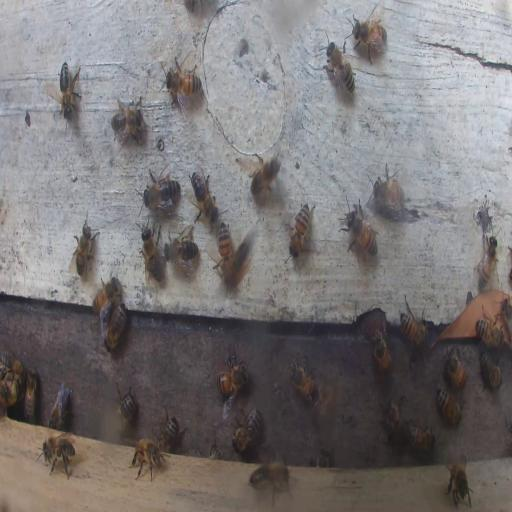bee: (341, 196, 379, 264), (350, 5, 388, 63), (70, 209, 101, 280), (322, 35, 357, 97), (142, 168, 182, 212), (41, 433, 77, 478), (215, 355, 249, 402), (249, 460, 291, 498), (373, 164, 404, 215), (108, 100, 144, 143), (140, 220, 164, 284), (56, 62, 82, 120), (230, 229, 256, 287), (249, 154, 281, 199), (288, 202, 314, 257), (399, 301, 428, 350), (129, 437, 162, 479), (231, 407, 261, 453), (190, 170, 216, 222), (161, 67, 203, 99), (166, 230, 200, 269), (380, 394, 406, 443), (90, 274, 121, 315), (446, 455, 470, 507), (475, 237, 498, 289), (104, 299, 126, 350), (290, 356, 314, 402), (312, 379, 333, 431), (436, 386, 463, 426), (48, 382, 71, 428), (155, 412, 179, 454), (216, 220, 233, 279), (475, 315, 504, 349), (444, 349, 467, 391), (371, 330, 392, 374), (407, 422, 437, 452), (115, 385, 136, 423), (480, 352, 502, 388), (24, 368, 38, 420), (3, 354, 24, 380), (2, 374, 16, 408), (502, 297, 512, 332), (317, 448, 329, 468)
